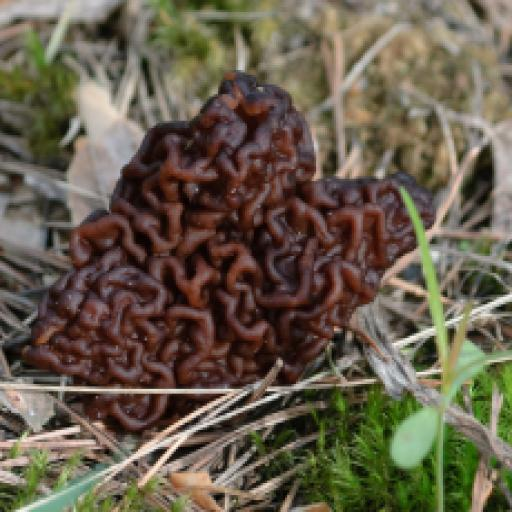False Morel: (0, 43, 432, 489)
